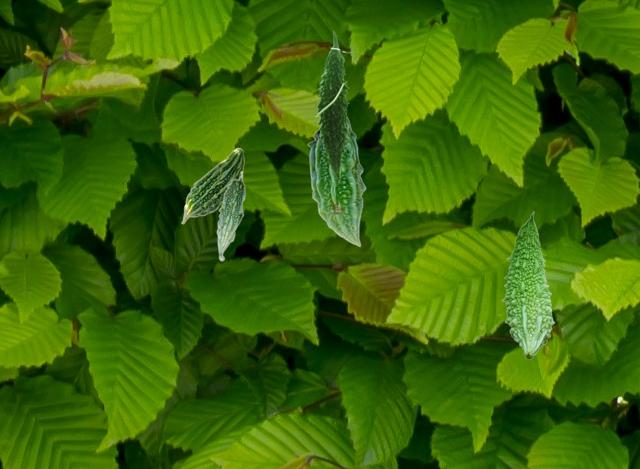ampalaya: (501, 210, 555, 360), (307, 117, 366, 247), (314, 30, 354, 182), (180, 147, 245, 224), (216, 170, 245, 262)
